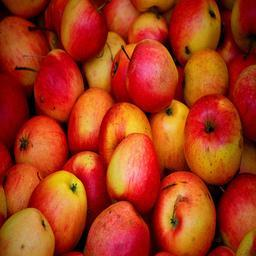apple: (185, 92, 244, 184), (154, 169, 217, 252), (26, 171, 87, 252), (105, 132, 161, 214), (1, 15, 48, 95), (127, 39, 178, 111), (35, 48, 84, 121), (86, 201, 150, 256), (170, 1, 222, 65), (13, 114, 68, 173), (98, 103, 150, 165), (217, 172, 256, 252), (67, 86, 115, 150), (60, 1, 107, 64), (181, 47, 230, 107), (148, 99, 189, 170), (1, 207, 55, 256)
